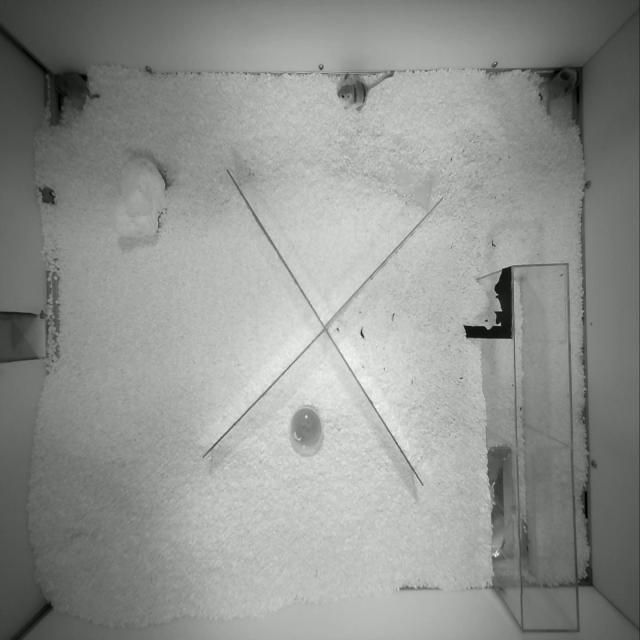pup_fluffy: (56, 72, 99, 109)
pup_h_stripe: (337, 72, 394, 111)
pup_spotted: (539, 67, 579, 114)
